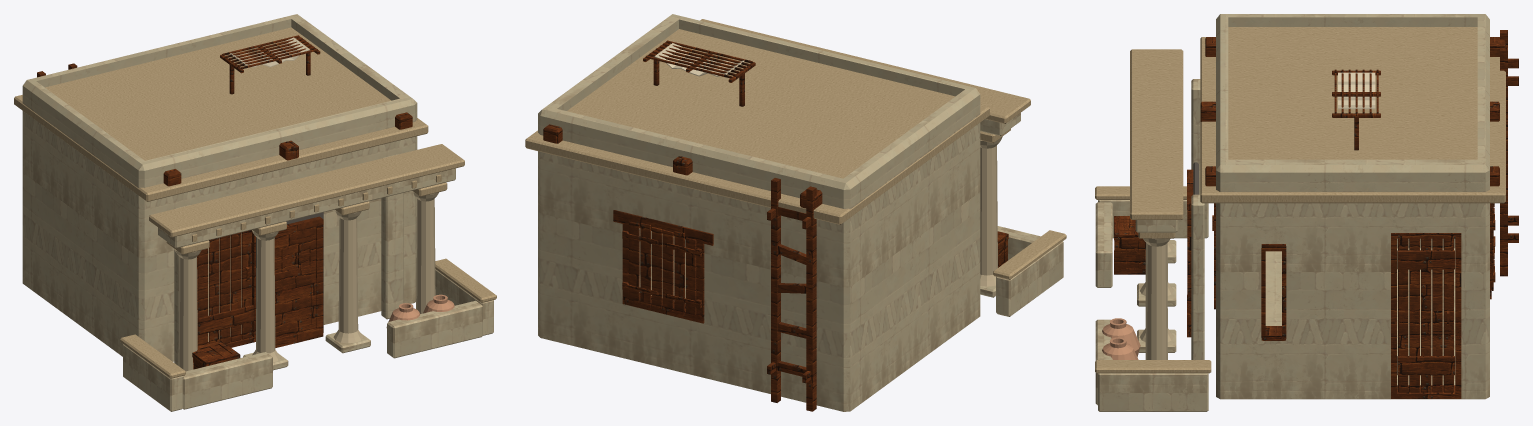
The model's file is house-assembly.glb.
3 renders of one model, left to right at view 1: azimuth 30°, elevation 25°; view 2: azimuth 150°, elevation 25°; view 3: azimuth 270°, elevation 25°, orthographic. The views are drawn at different scales.
Parts seen in each view (by area): view 1: house-assembly|3dtextures-dressed-limestone, house-assembly|3dtextures-limestone-coping, house-assembly|3dtextures-aged-wood, house-assembly|fired-clay, house-assembly|woven-linen; view 2: house-assembly|3dtextures-dressed-limestone, house-assembly|3dtextures-limestone-coping, house-assembly|3dtextures-aged-wood, house-assembly|woven-linen; view 3: house-assembly|3dtextures-dressed-limestone, house-assembly|3dtextures-limestone-coping, house-assembly|3dtextures-aged-wood, house-assembly|fired-clay, house-assembly|woven-linen.
Boxes of the visible parts, <box> form: house-assembly|3dtextures-dressed-limestone: <box>22,14,493,411</box>; house-assembly|3dtextures-limestone-coping: <box>14,27,496,378</box>; house-assembly|3dtextures-aged-wood: <box>37,35,412,369</box>; house-assembly|fired-clay: <box>386,294,454,327</box>; house-assembly|woven-linen: <box>230,37,309,67</box>; house-assembly|3dtextures-dressed-limestone: <box>538,14,1063,411</box>; house-assembly|3dtextures-limestone-coping: <box>525,19,1066,279</box>; house-assembly|3dtextures-aged-wood: <box>543,40,1008,411</box>; house-assembly|woven-linen: <box>654,43,744,76</box>; house-assembly|3dtextures-dressed-limestone: <box>1095,14,1489,411</box>; house-assembly|3dtextures-limestone-coping: <box>1095,27,1505,373</box>; house-assembly|3dtextures-aged-wood: <box>1114,30,1518,398</box>; house-assembly|fired-clay: <box>1102,318,1140,359</box>; house-assembly|woven-linen: <box>1338,72,1375,109</box>.
Size of the model in its own units: 6.17 by 4.09 by 6.05.
Materials: 6 (3 with a texture image).
